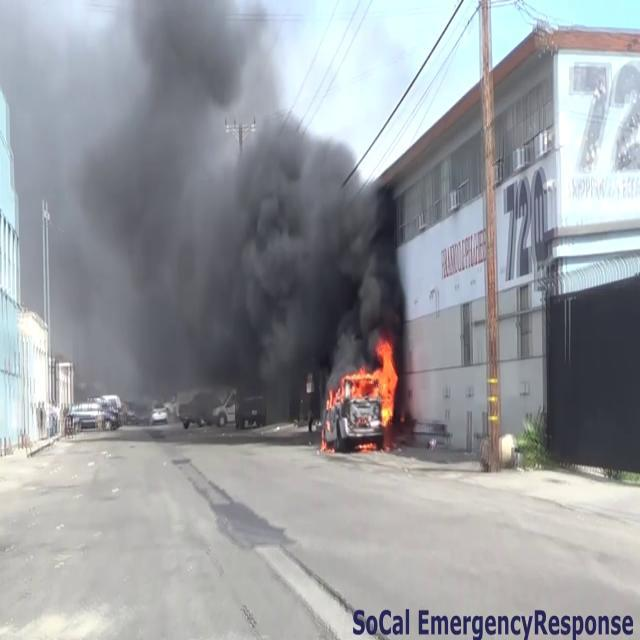Fire: (334, 332, 402, 432)
Smoke: (2, 0, 414, 402)
